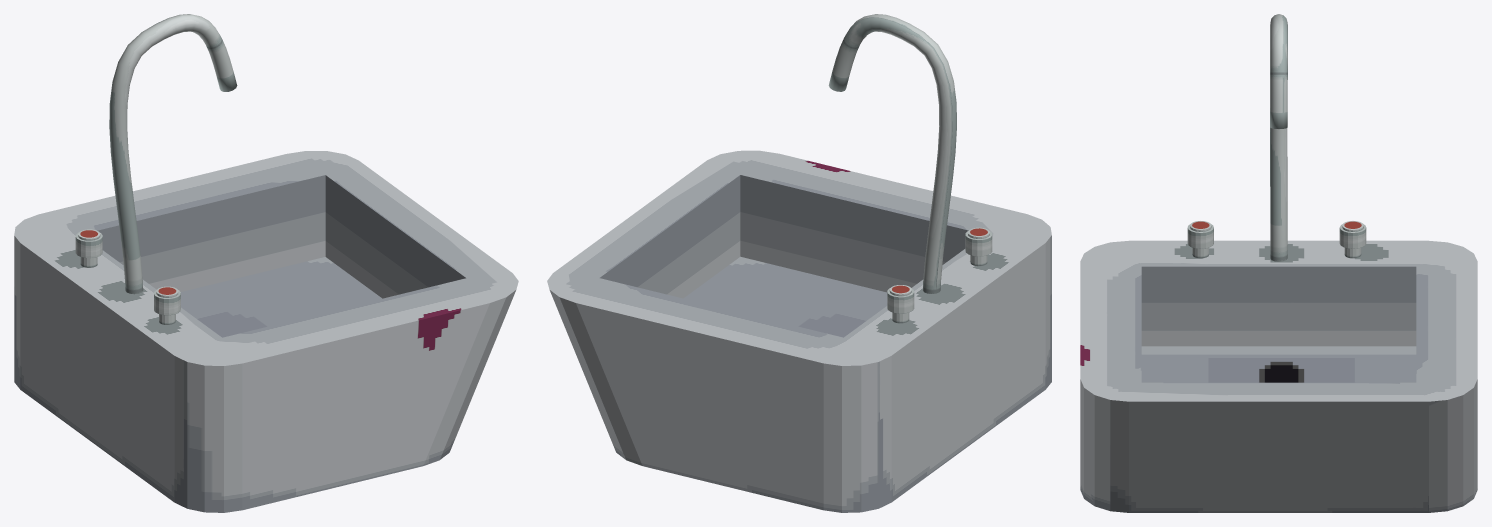
File: PiaComaMarca.fbx
3 views of the same model, side by side, from view 1: azimuth 30°, elevation 25°; view 2: azimuth 150°, elevation 25°; view 3: azimuth 270°, elevation 25° (orthographic). The views are drawn at different scales.
Visible parts, largest first — view 1: Cube, BézierCurve, Cylinder; view 2: Cube, BézierCurve, Cylinder; view 3: Cube, BézierCurve, Cylinder.
Boxes of the visible parts, x1,y1,x2,y2 form: Cube: (14,151,518,512); BézierCurve: (109,14,237,294); Cylinder: (75,229,180,324); Cube: (547,150,1051,512); BézierCurve: (828,14,956,293); Cylinder: (887,227,992,323); Cube: (1080,240,1477,512); BézierCurve: (1270,14,1287,261); Cylinder: (1187,221,1366,258).
Size of the model in its own units: 402 by 466 by 420.
Materials: 3 (3 with a texture image).
